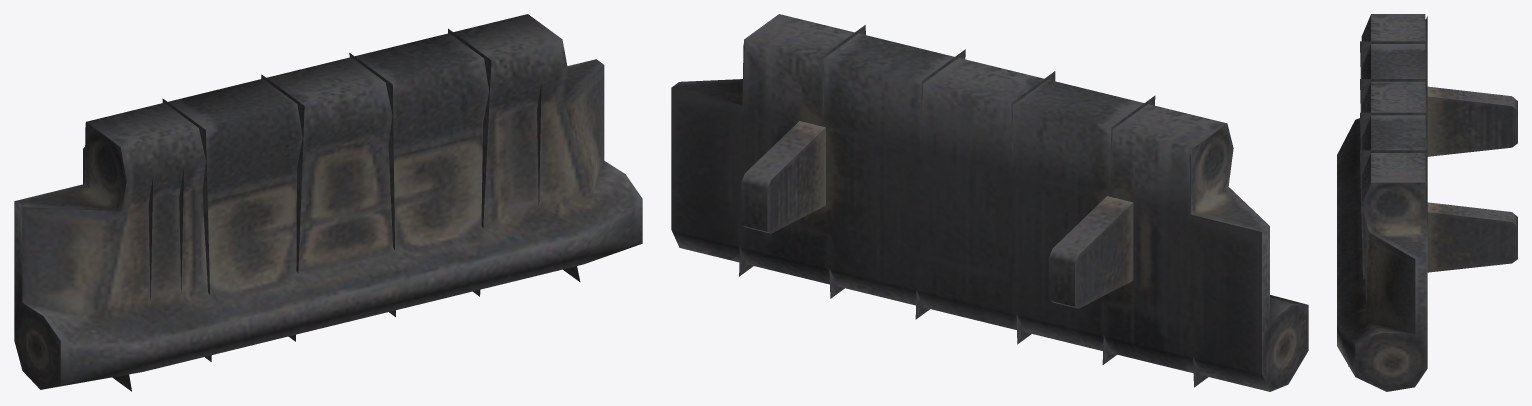
The picture shows the model from 3 angles, left to right: view 1: azimuth 30°, elevation 25°; view 2: azimuth 150°, elevation 25°; view 3: azimuth 270°, elevation 25°; orthographic projection. The views are drawn at different scales.
Visible parts, largest first — view 1: set_0_group_0; view 2: set_0_group_0; view 3: set_0_group_0.
Part boxes in pixels (bbox=[...]): set_0_group_0: bbox=[14, 14, 642, 391]; set_0_group_0: bbox=[671, 14, 1308, 391]; set_0_group_0: bbox=[1337, 14, 1517, 391].
Bounding box in the file's own units: 0.2917 × 0.1134 × 0.1003.
Materials: 1 (1 with a texture image).
